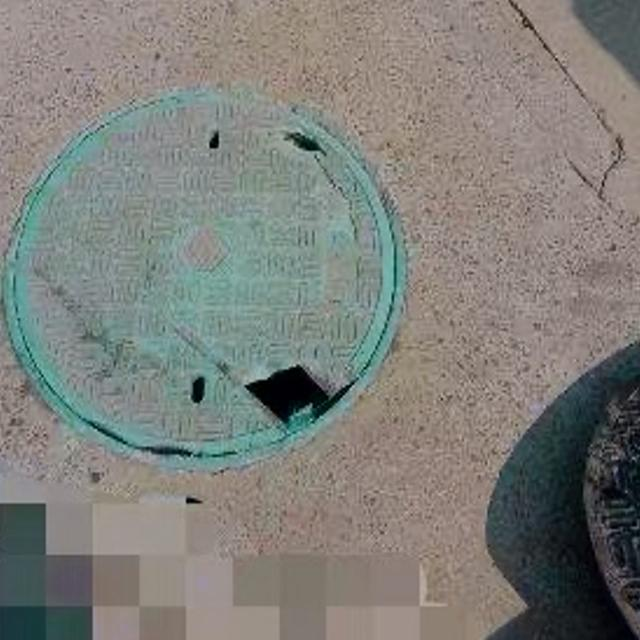broke: (3, 85, 398, 464)
